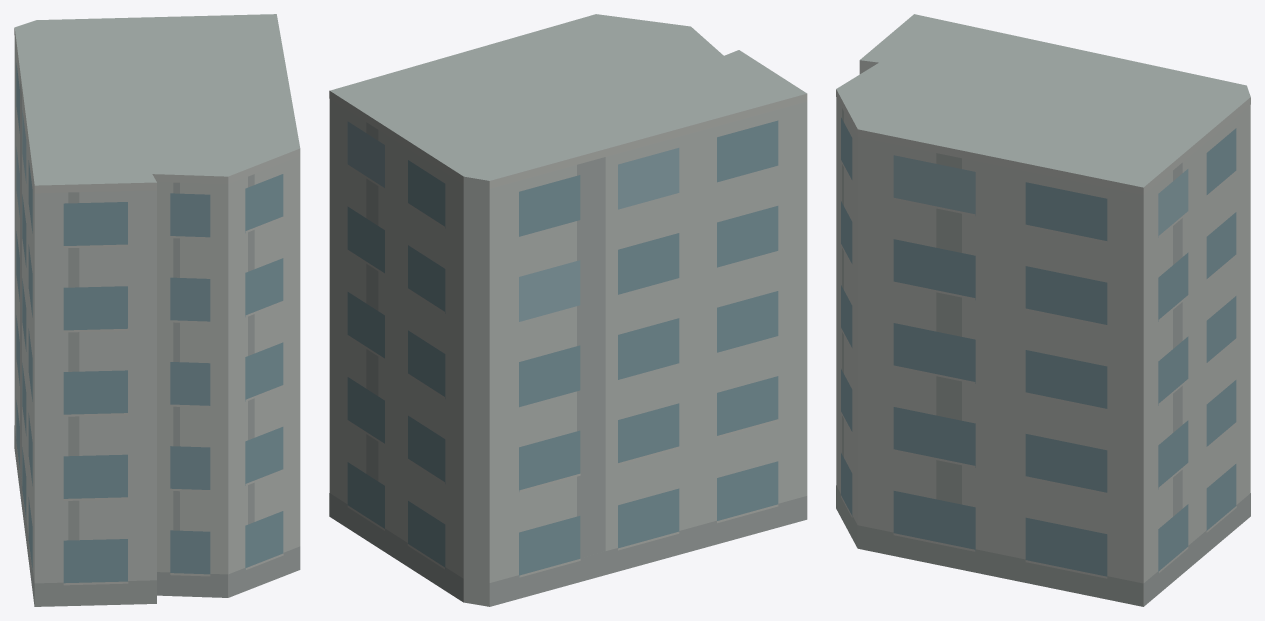
File: survey-upis-32726198.glb
The picture shows the model from 3 angles, left to right: view 1: azimuth 30°, elevation 25°; view 2: azimuth 150°, elevation 25°; view 3: azimuth 270°, elevation 25°; orthographic projection.
Parts seen in each view (by area): view 1: survey-upis-32726198.tmp; view 2: survey-upis-32726198.tmp; view 3: survey-upis-32726198.tmp.
Boxes of the visible parts, x1=… form: survey-upis-32726198.tmp: x1=14, y1=14, x2=300, y2=606; survey-upis-32726198.tmp: x1=329, y1=14, x2=807, y2=606; survey-upis-32726198.tmp: x1=836, y1=14, x2=1250, y2=606.
Bounding box in the file's own units: 11.73 × 13.2 × 11.84.
